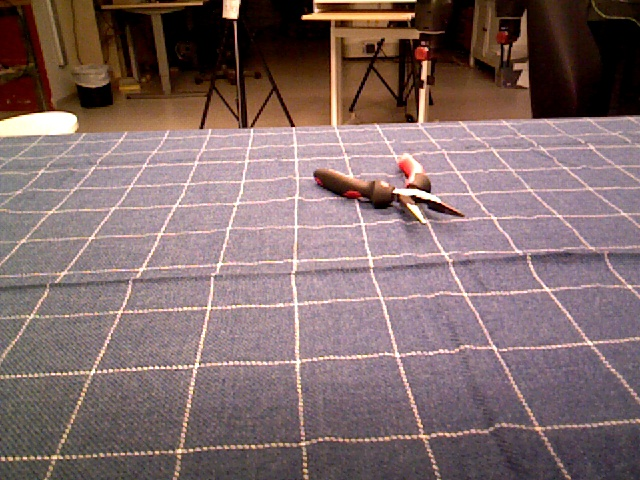plier1: (313, 153, 466, 225)
